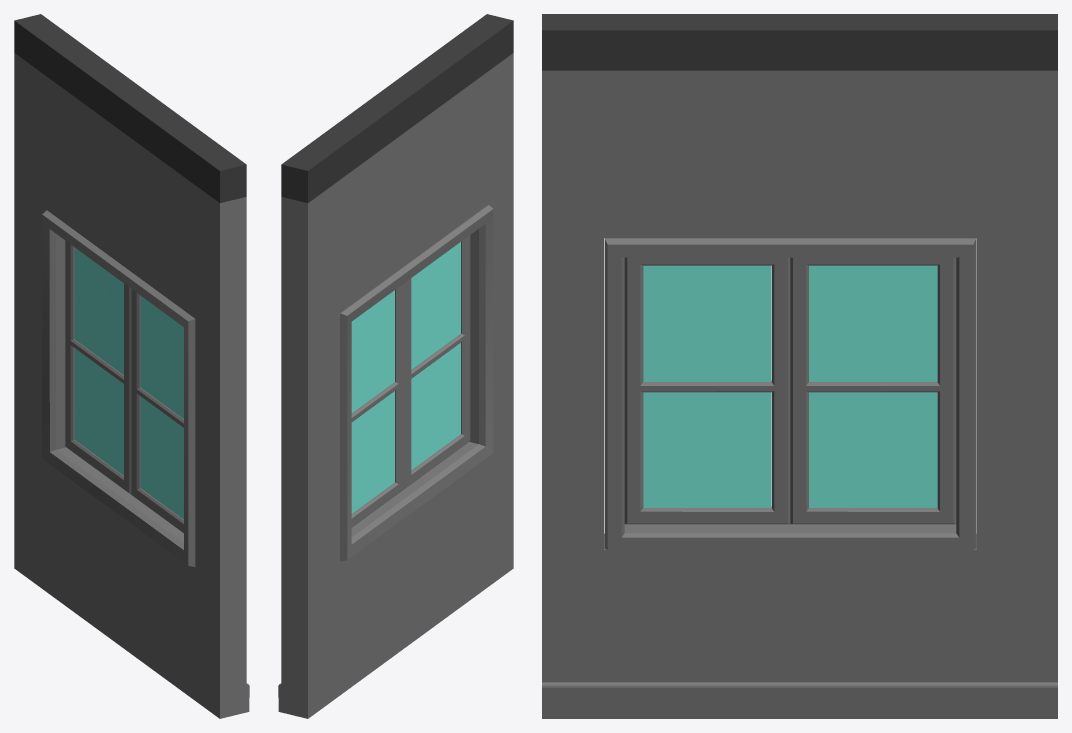
The model's file is uv_Window_2m.obj.
3 renders of one model, left to right at view 1: azimuth 30°, elevation 25°; view 2: azimuth 150°, elevation 25°; view 3: azimuth 270°, elevation 25°, orthographic. The views are drawn at different scales.
Parts seen in each view (by area): view 1: pCube1105, pCube1105 pCube945, pCube1105 pCube942, pCube1105 pCube942 pCube939, pCube1105 pCube942 pCube940, pCube1105 pCube943 pCube939, pCube1105 pCube943 pCube940, pCube1105 pCube943; view 2: pCube1105, pCube1105 pCube945, pCube1105 pCube943, pCube1105 pCube943 pCube939, pCube1105 pCube943 pCube940, pCube1105 pCube942 pCube939, pCube1105 pCube942 pCube940, pCube1105 pCube942; view 3: pCube1105, pCube1105 pCube945, pCube1105 pCube943, pCube1105 pCube942, pCube1105 pCube943 pCube939, pCube1105 pCube942 pCube939, pCube1105 pCube943 pCube940, pCube1105 pCube942 pCube940.
Part boxes in pixels (box(x1,y1,x2,y2)): pCube1105: box(14, 14, 249, 718); pCube1105 pCube945: box(42, 210, 195, 566); pCube1105 pCube942: box(65, 240, 131, 494); pCube1105 pCube942 pCube939: box(74, 247, 123, 374); pCube1105 pCube942 pCube940: box(74, 348, 123, 475); pCube1105 pCube943 pCube939: box(140, 296, 183, 418); pCube1105 pCube943 pCube940: box(140, 397, 183, 519); pCube1105 pCube943: box(131, 289, 183, 532); pCube1105: box(278, 14, 513, 718); pCube1105 pCube945: box(340, 205, 493, 561); pCube1105 pCube943: box(404, 235, 470, 489); pCube1105 pCube943 pCube939: box(411, 242, 460, 369); pCube1105 pCube943 pCube940: box(411, 343, 460, 470); pCube1105 pCube942 pCube939: box(351, 290, 394, 413); pCube1105 pCube942 pCube940: box(351, 391, 394, 513); pCube1105 pCube942: box(351, 283, 403, 527); pCube1105: box(542, 14, 1057, 718); pCube1105 pCube945: box(604, 238, 976, 549); pCube1105 pCube943: box(624, 257, 790, 524); pCube1105 pCube942: box(790, 257, 956, 524); pCube1105 pCube943 pCube939: box(643, 265, 771, 381); pCube1105 pCube942 pCube939: box(809, 265, 937, 381); pCube1105 pCube943 pCube940: box(643, 392, 771, 507); pCube1105 pCube942 pCube940: box(809, 392, 937, 507).
Bounding box in the file's own units: 21.12 × 294 × 200.
